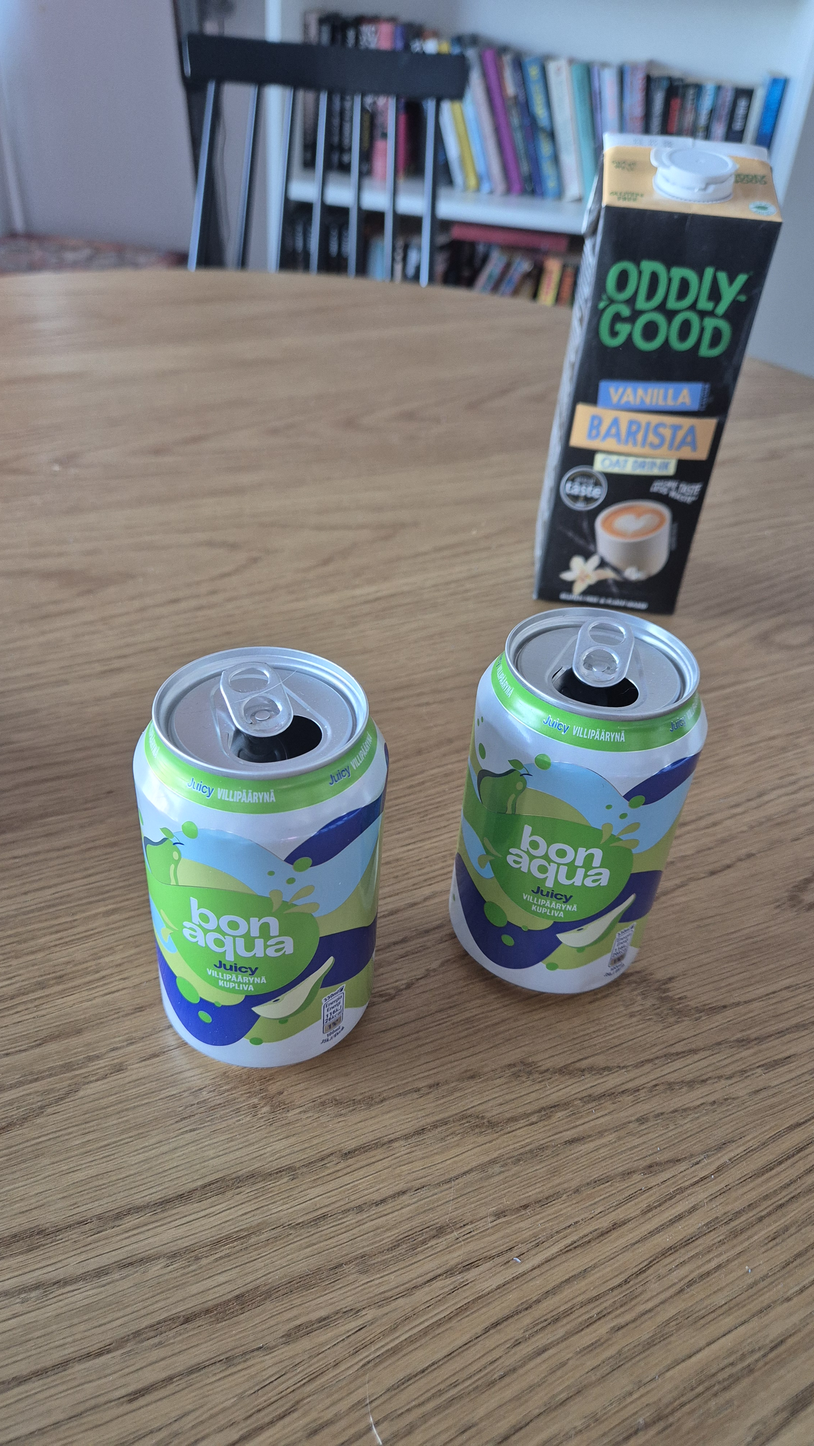Dryckeskartong: (532, 131, 783, 615)
Pantburk: (133, 647, 389, 1068), (449, 608, 709, 993)
